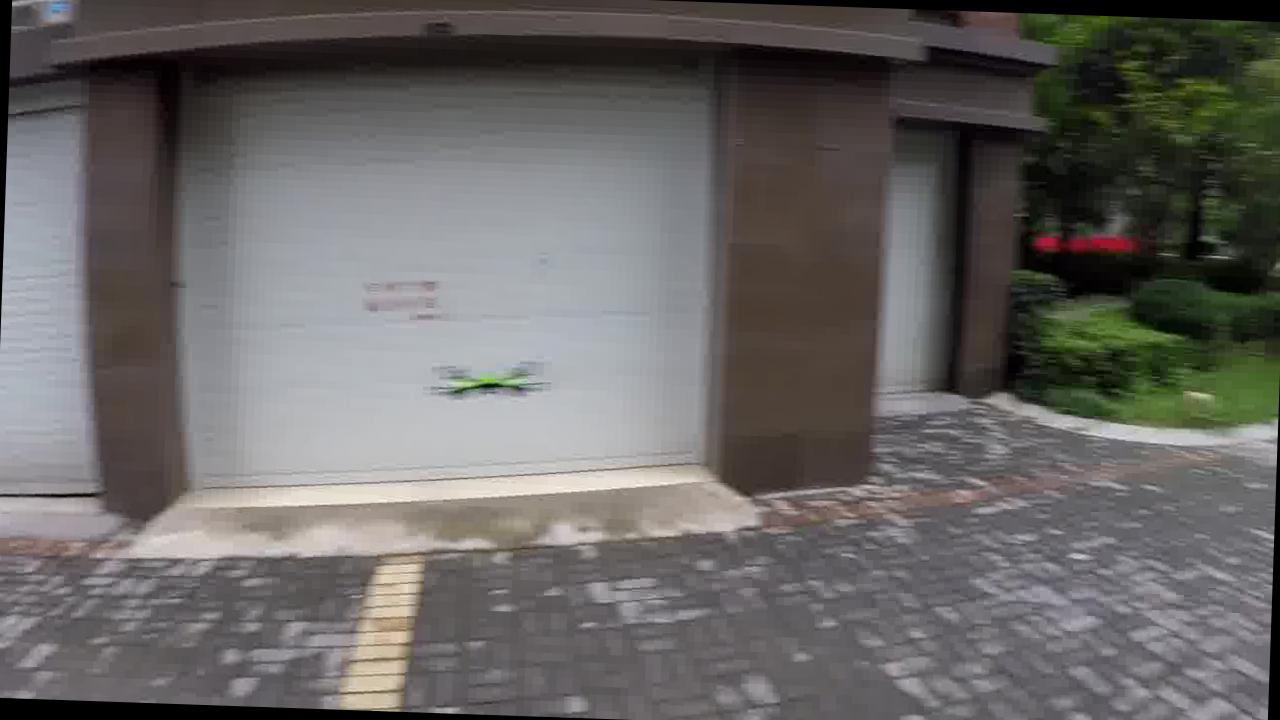drone: (422, 334, 574, 406)
